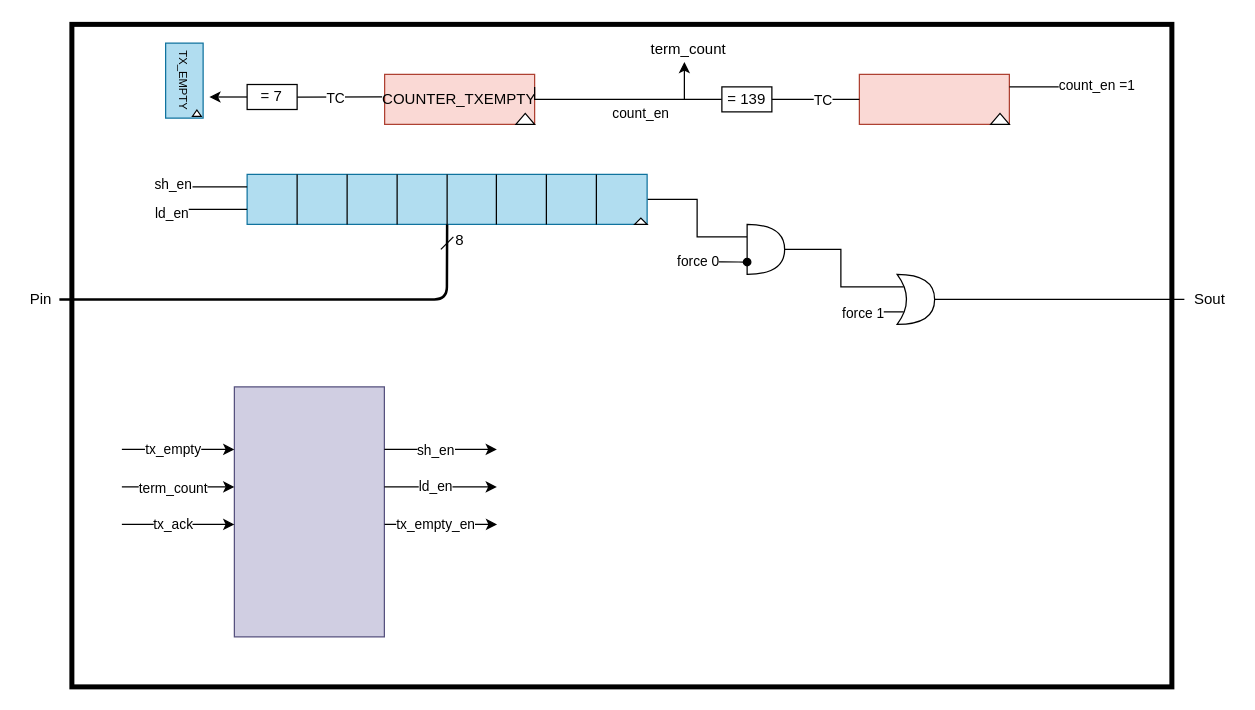
The diagram is 1255 pixels wide and 710 high, and some of its shapes have lost their labels. Here are the shapes that lost their labels. From the top down, the centre of each, then its label:
At point (933, 98): "COUNTER".
At point (308, 511): "TX CONTROL UNIT".
